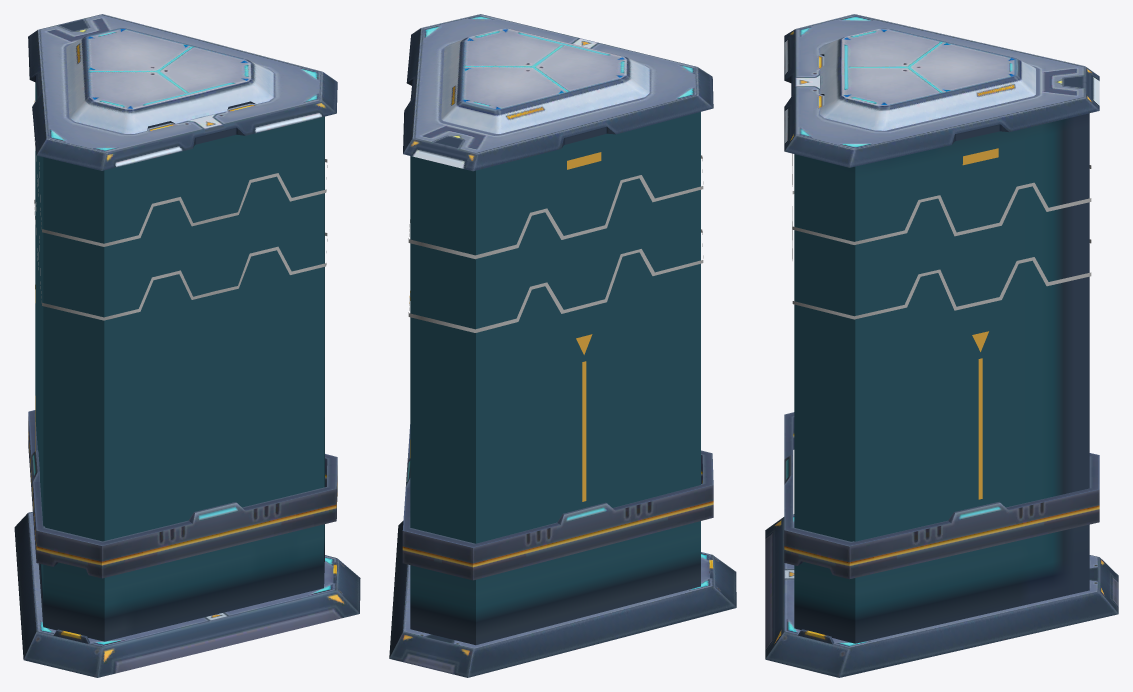
The model's file is MP_Raid_LockBox.fbx.
3 renders of one model, left to right at view 1: azimuth 30°, elevation 25°; view 2: azimuth 150°, elevation 25°; view 3: azimuth 270°, elevation 25°, orthographic.
Visible parts, largest first — view 1: glass, final_box_open, light; view 2: glass, final_box_open, light; view 3: glass, final_box_open, light.
Part boxes in pixels (left/top/right/bottom): glass: left=35, top=82, right=324, bottom=641; final_box_open: left=14, top=14, right=360, bottom=677; light: left=34, top=130, right=327, bottom=320; glass: left=410, top=112, right=700, bottom=645; final_box_open: left=389, top=14, right=736, bottom=677; light: left=408, top=155, right=703, bottom=332; glass: left=794, top=113, right=1089, bottom=643; final_box_open: left=765, top=14, right=1118, bottom=677; light: left=792, top=153, right=1091, bottom=319.
Size of the model in its own units: 1.69 by 2.5 by 1.52.
